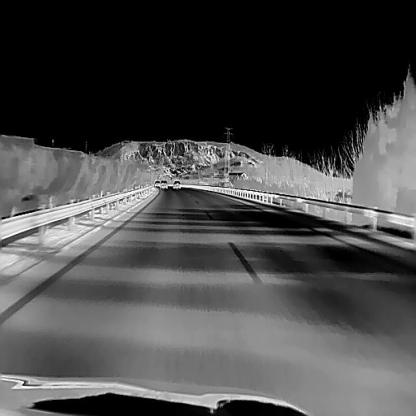car: (172, 178, 180, 188), (160, 178, 167, 188)
